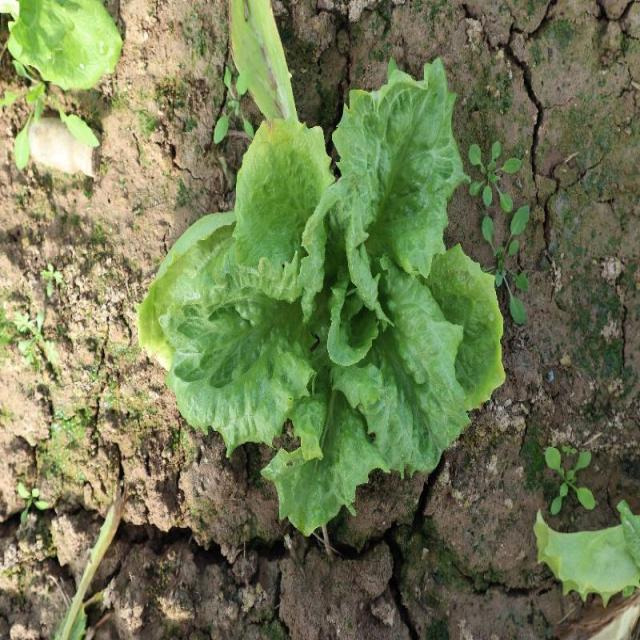crop: (132, 56, 510, 544)
